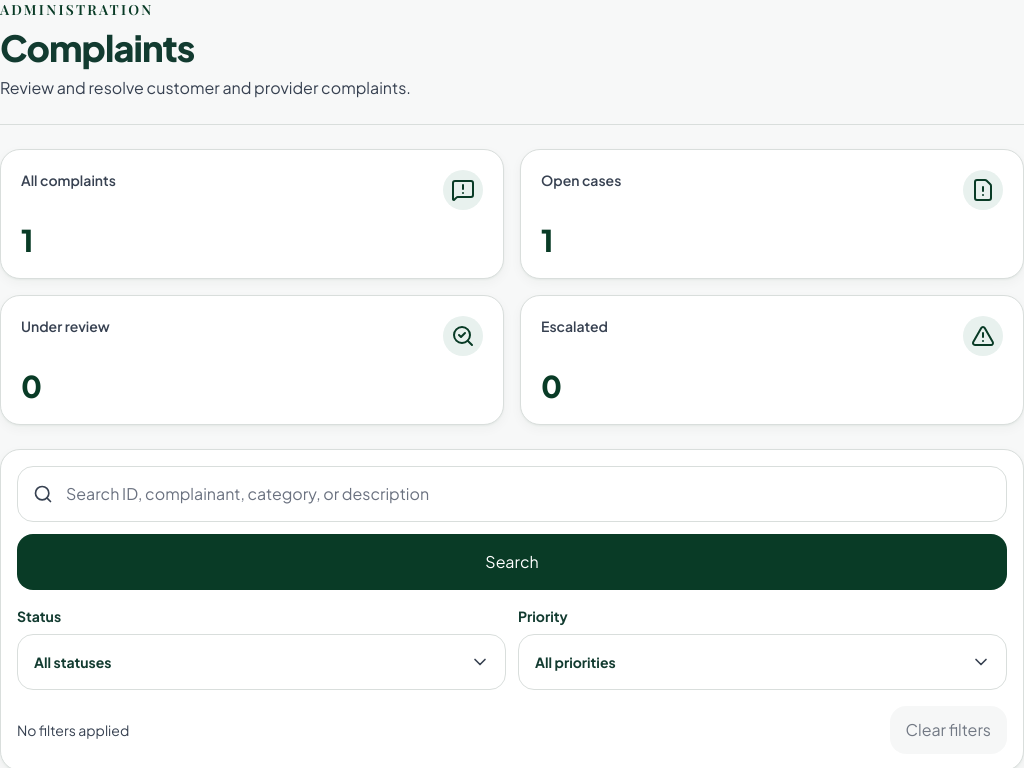
Test case: complaint read recovery › retries a failed new filter rather than the previous successful query
This screenshot has width=1024, height=768.
Select "Urgent" in the dropdown labelled "Priority" at (762, 662), box [518,634,1007,690]
(page scrolled)
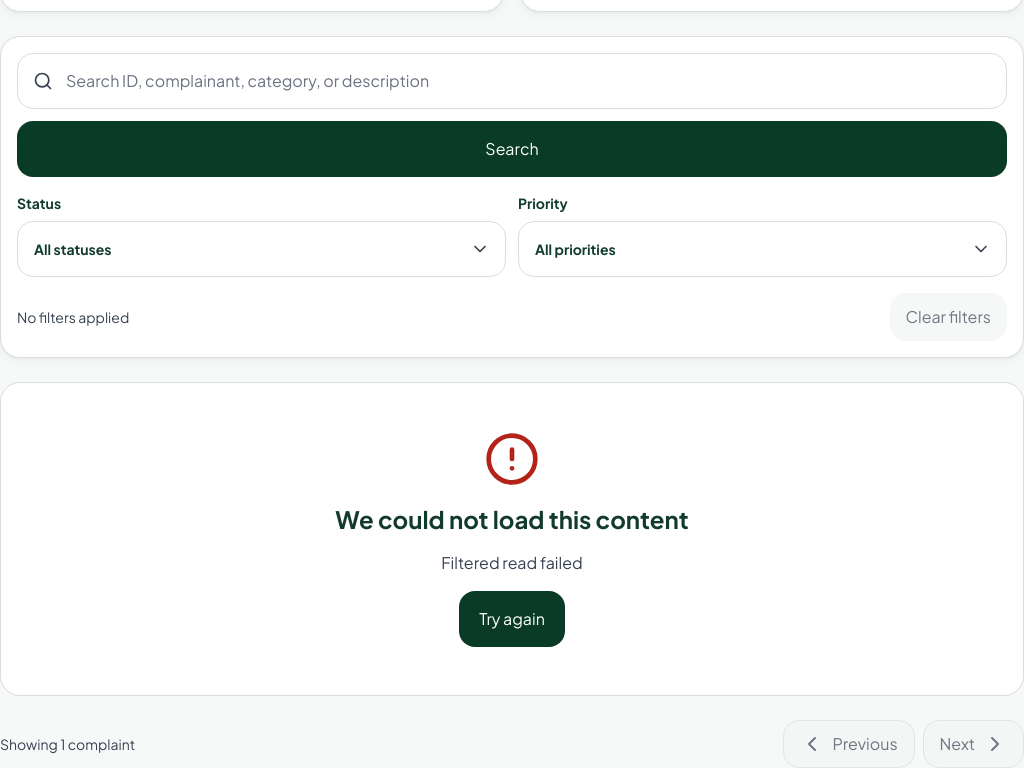
Now the text "Filtered read failed" is shown, box [441,551,583,575]
Click the button "Try again" at (512, 619), box [459,591,565,647]
(page scrolled)
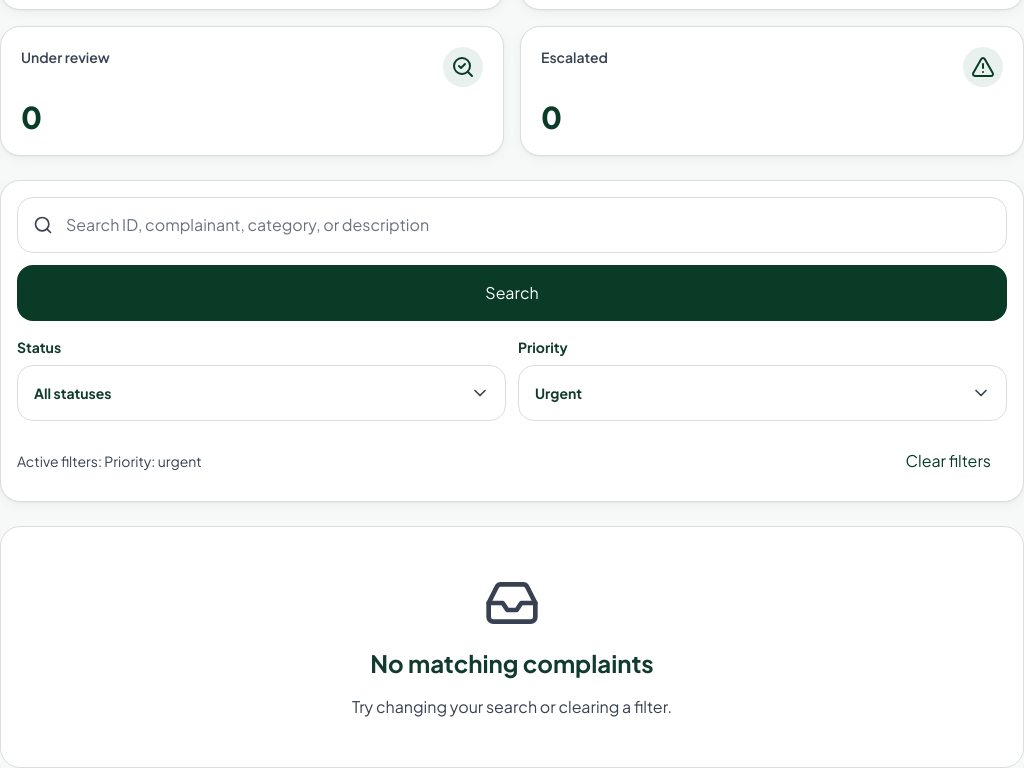
Now the heading "No matching complaints" is shown, box [370,647,654,679]
